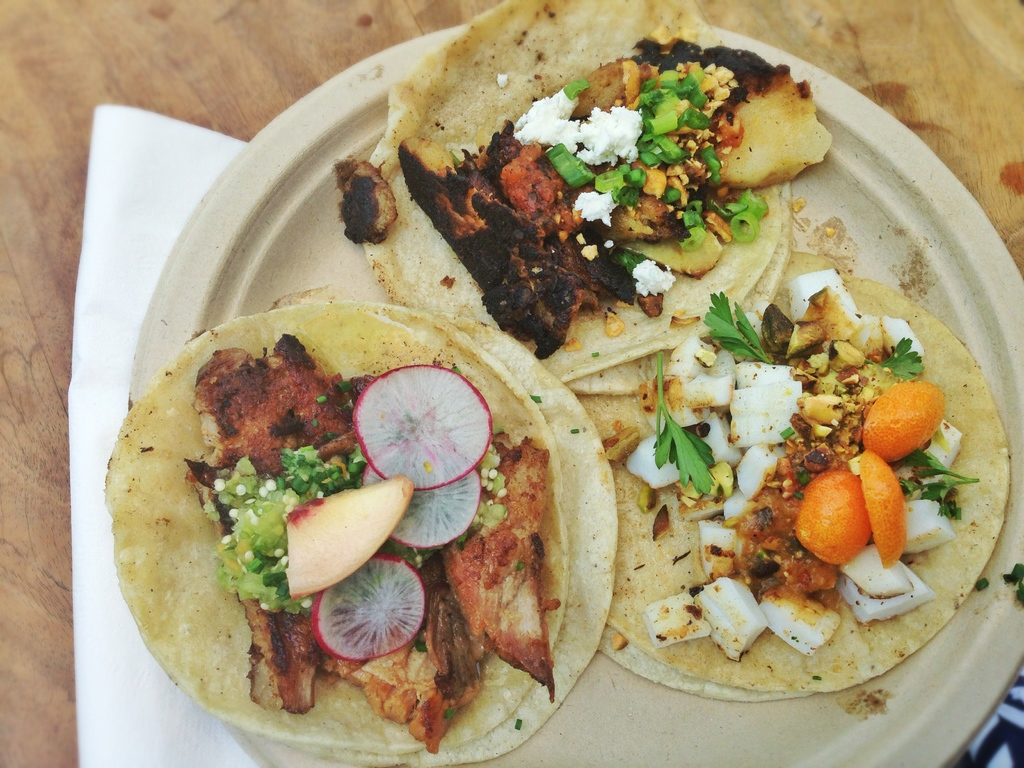taco: (561, 234, 1010, 708), (340, 0, 783, 408)
